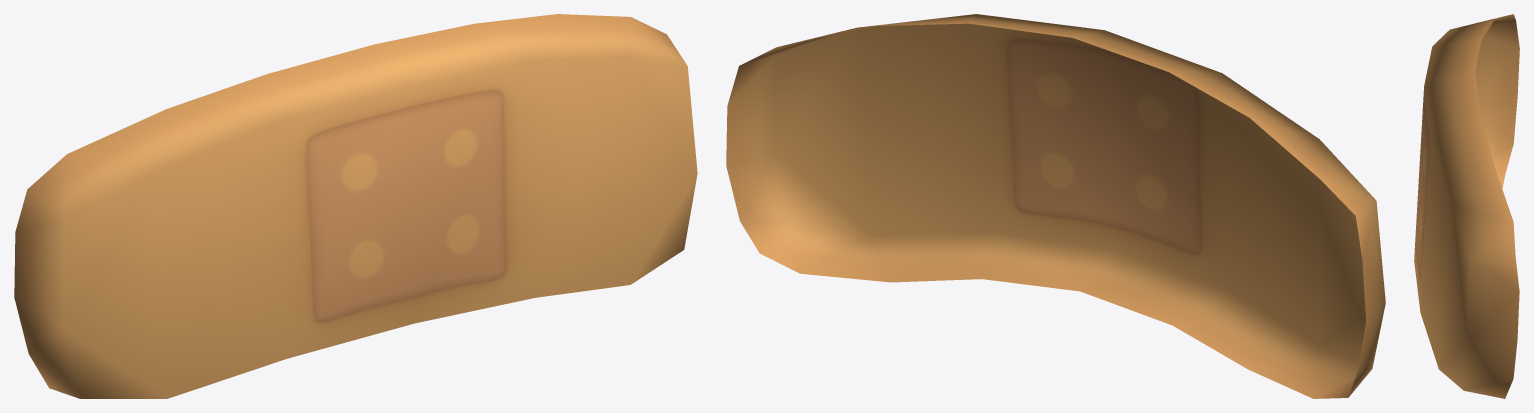
File: SM_mask11.fbx
3 views of the same model, side by side, from view 1: azimuth 30°, elevation 25°; view 2: azimuth 150°, elevation 25°; view 3: azimuth 270°, elevation 25° (orthographic). The views are drawn at different scales.
Parts seen in each view (by area): view 1: mask11; view 2: mask11; view 3: mask11.
Boxes of the visible parts, left/top/right/bottom form: mask11: left=14, top=14, right=697, bottom=398; mask11: left=726, top=14, right=1385, bottom=398; mask11: left=1414, top=14, right=1519, bottom=398.
Size of the model in its own units: 8.06 by 3.45 by 1.47.
